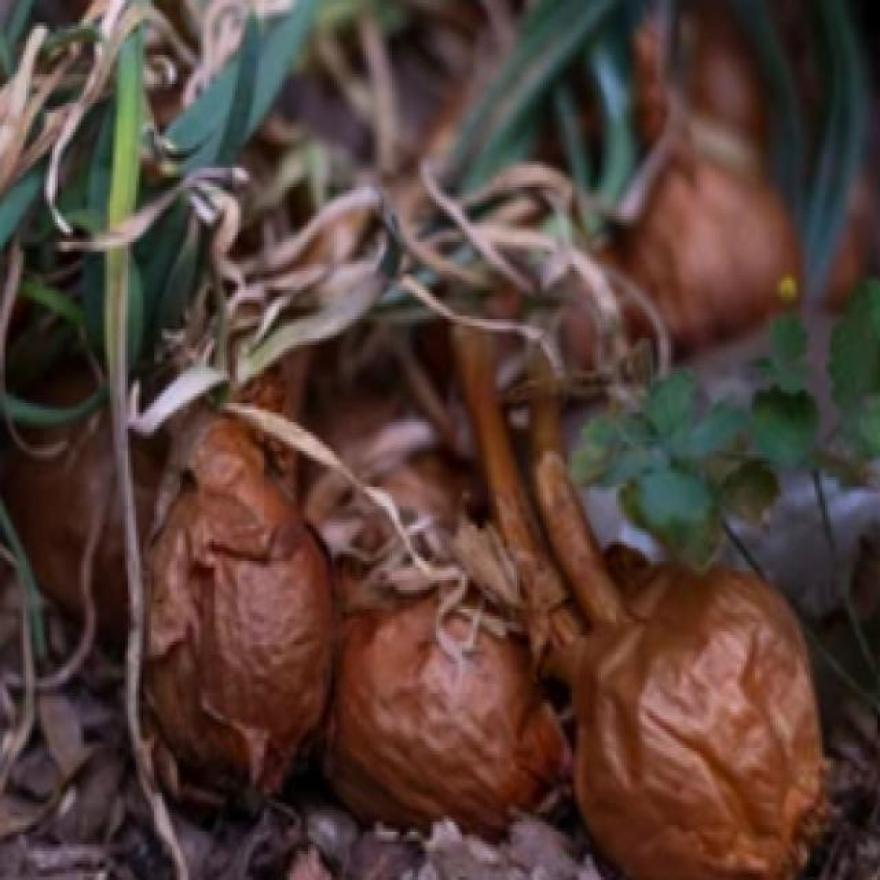Rotten: (185, 467, 298, 725)
Sprouted: (418, 303, 619, 606), (112, 245, 240, 416)
